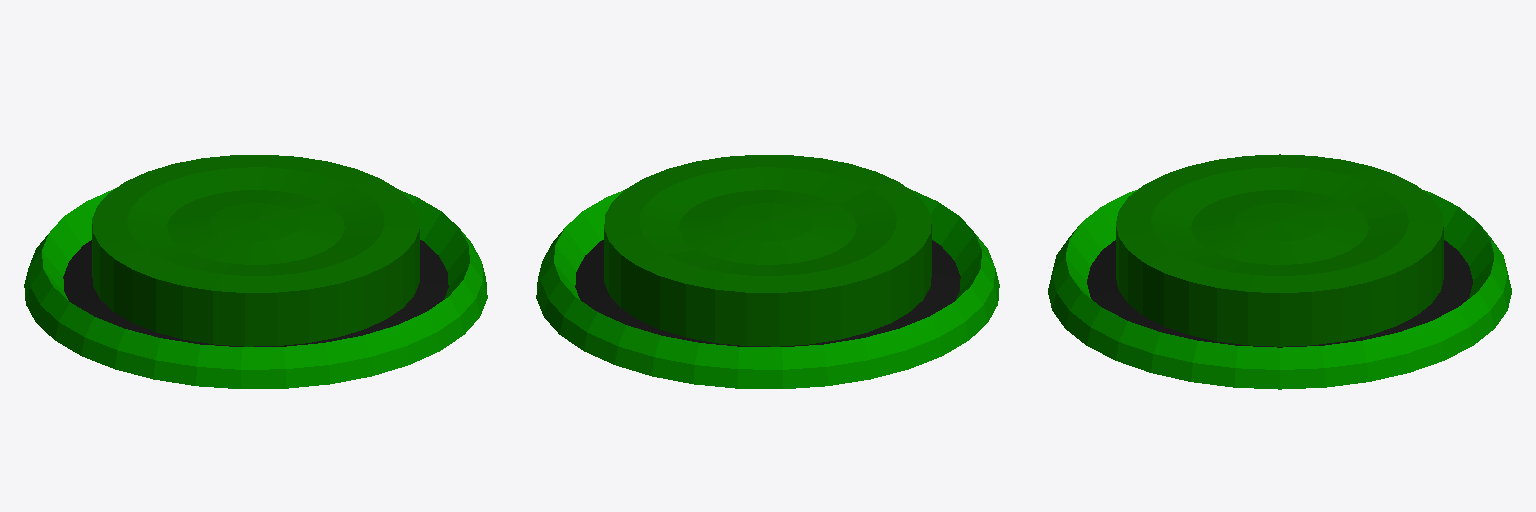
The model's file is target2hit.obj.
3 renders of one model, left to right at view 1: azimuth 30°, elevation 25°; view 2: azimuth 150°, elevation 25°; view 3: azimuth 270°, elevation 25°, orthographic.
Visible parts, largest first — view 1: Sphere; view 2: Sphere; view 3: Sphere.
Part boxes in pixels (x1,y1,x2,y2): Sphere: (24, 155, 487, 388); Sphere: (536, 155, 999, 388); Sphere: (1048, 154, 1511, 389).
Bounding box in the file's own units: 0.7 × 0.1179 × 0.7.